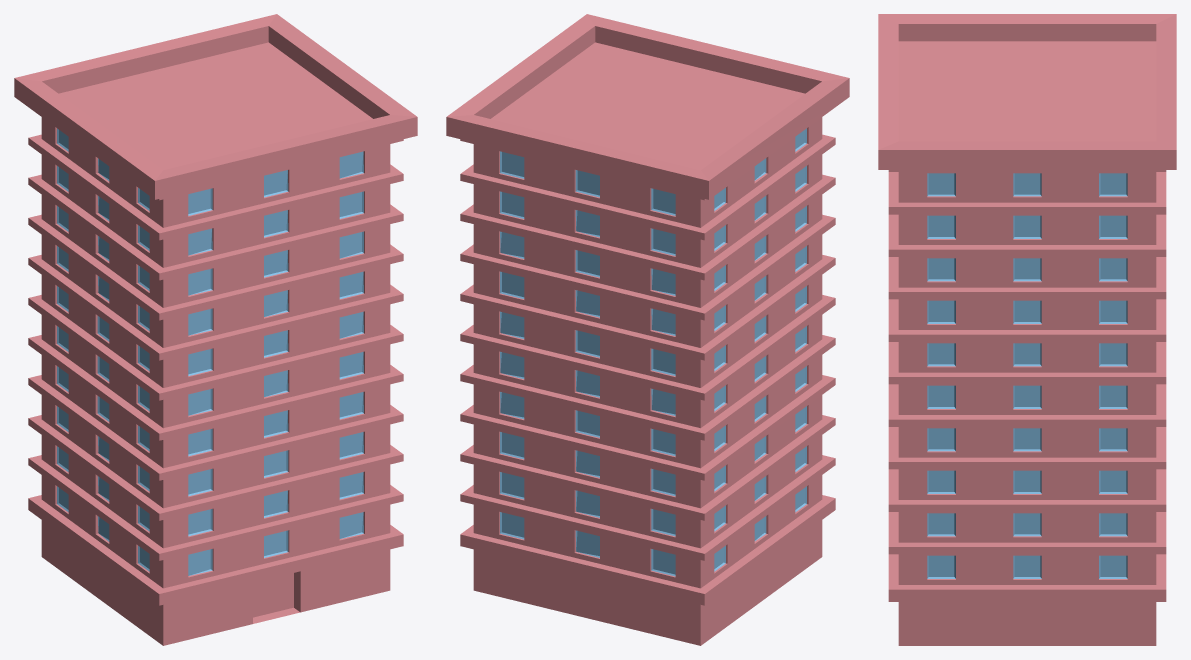
File: Red Short.fbx
The picture shows the model from 3 angles, left to right: view 1: azimuth 30°, elevation 25°; view 2: azimuth 150°, elevation 25°; view 3: azimuth 270°, elevation 25°; orthographic projection. The views are drawn at different scales.
Visible parts, largest first — view 1: Red Short; view 2: Red Short; view 3: Red Short.
Part boxes in pixels (left/top/right/bottom): Red Short: left=14, top=14, right=417, bottom=645; Red Short: left=446, top=14, right=849, bottom=645; Red Short: left=878, top=14, right=1176, bottom=645.
Size of the model in its own units: 9.98 by 17.3 by 9.26.
